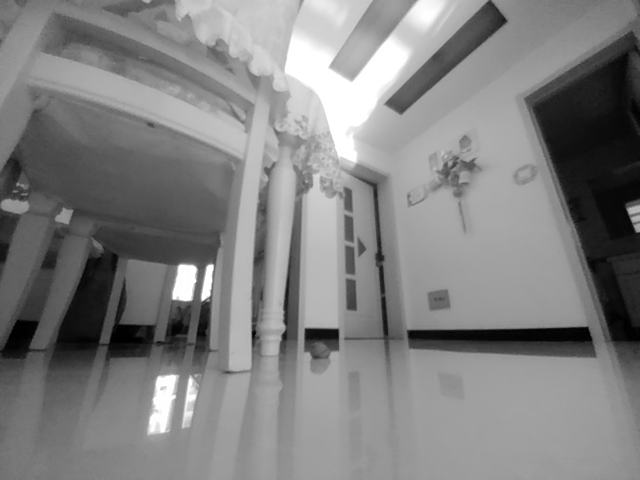pet feces: (310, 341, 331, 360)
